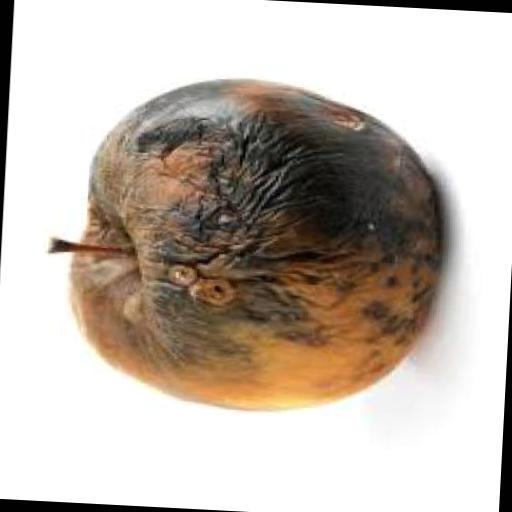biodegradable: (38, 64, 448, 418)
